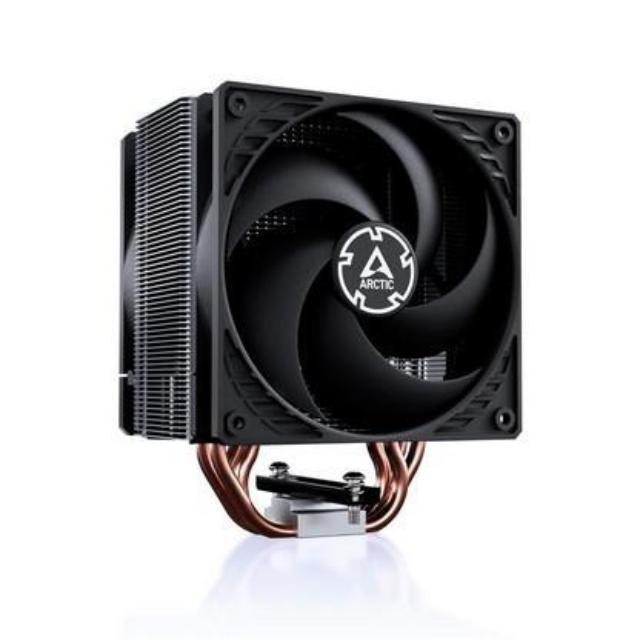CPU_Fan: (116, 80, 526, 531)
